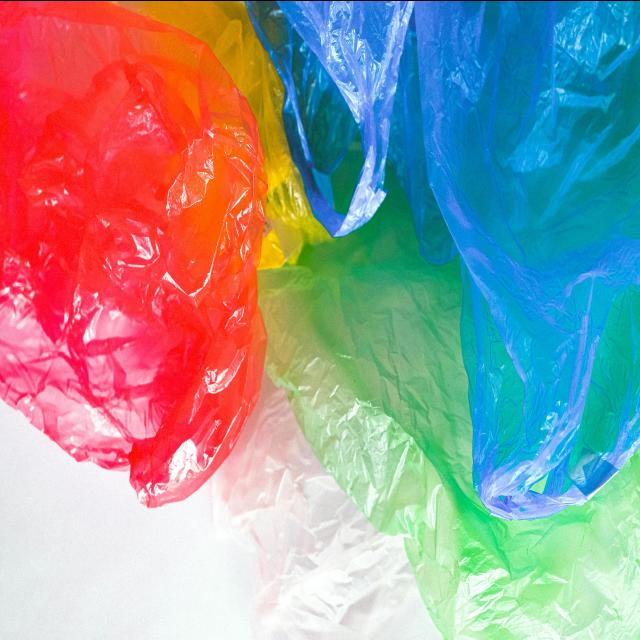plastik: (259, 171, 640, 640), (0, 0, 268, 505), (389, 0, 640, 519), (212, 372, 443, 640), (108, 0, 329, 269), (245, 0, 414, 235)
